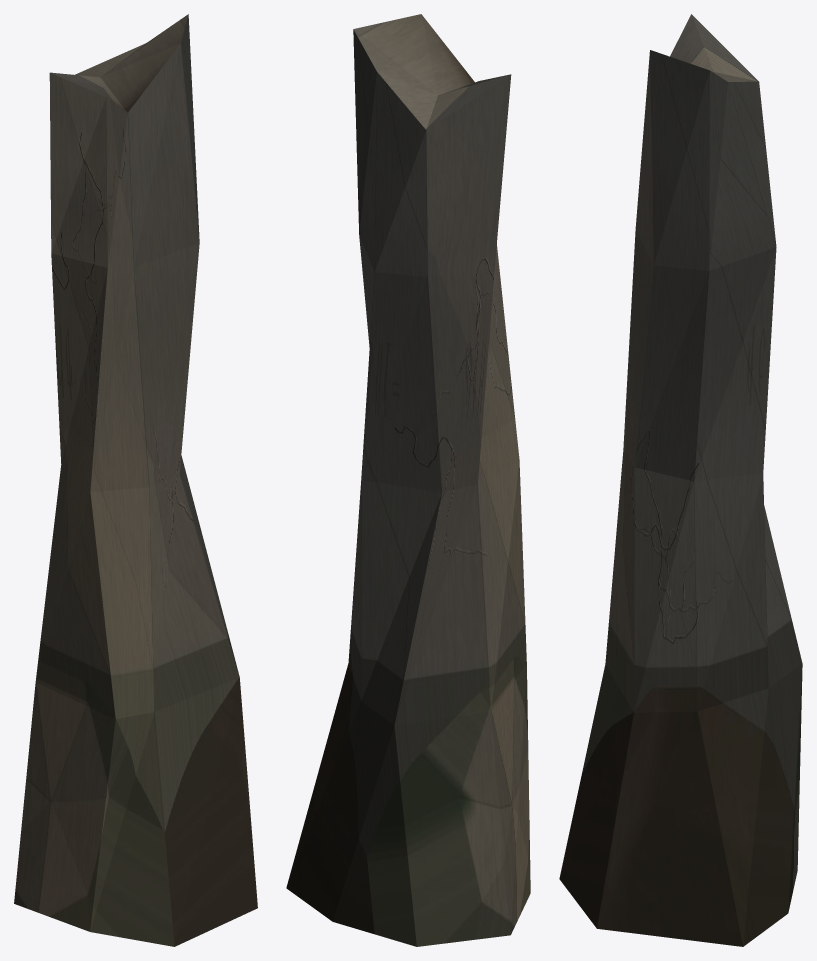
Rendered from monolito-04.glb.
3 renders of one model, left to right at view 1: azimuth 30°, elevation 25°; view 2: azimuth 150°, elevation 25°; view 3: azimuth 270°, elevation 25°, orthographic.
Visible parts, largest first — view 1: monolito-04-nn; view 2: monolito-04-nn; view 3: monolito-04-nn.
Boxes of the visible parts, bbox=[...] form: monolito-04-nn: bbox=[14, 14, 257, 946]; monolito-04-nn: bbox=[286, 14, 530, 946]; monolito-04-nn: bbox=[559, 14, 802, 946].
Size of the model in its own units: 1.12 by 4.25 by 1.1.
Materials: 1 (1 with a texture image).
